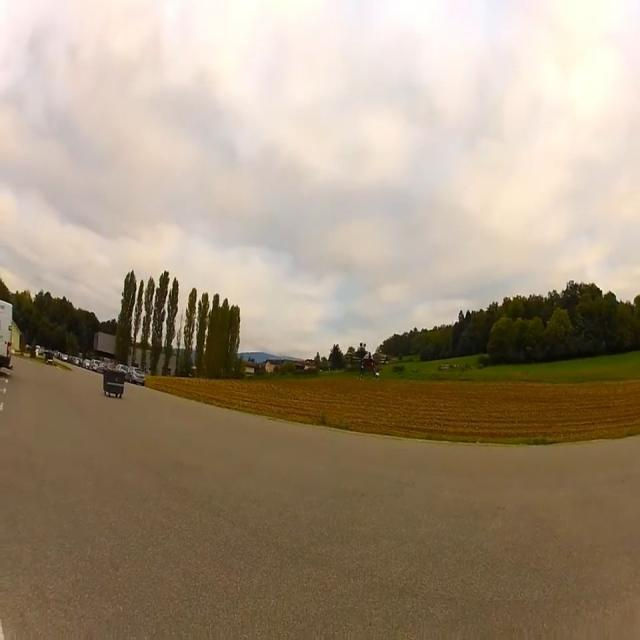drone: (349, 349, 388, 379)
